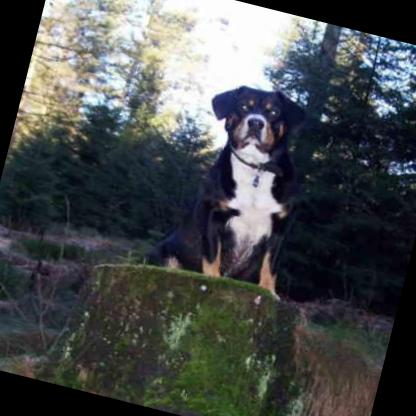EntleBucher: (146, 67, 334, 302)
